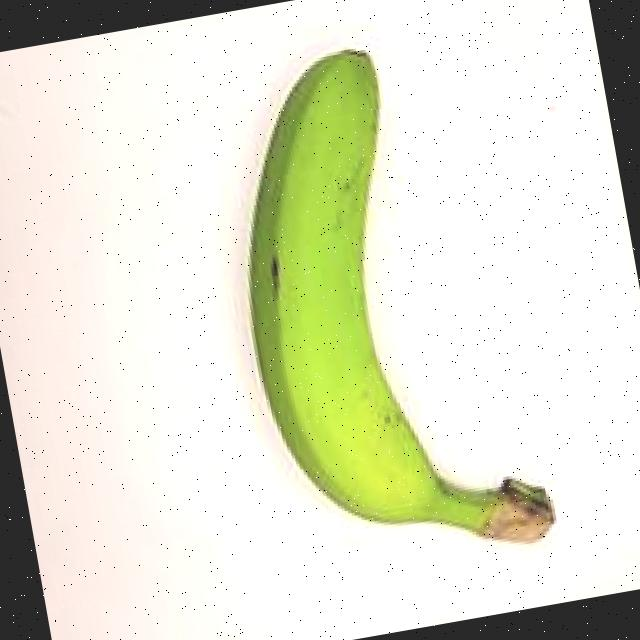Unripe: (156, 0, 595, 615)
